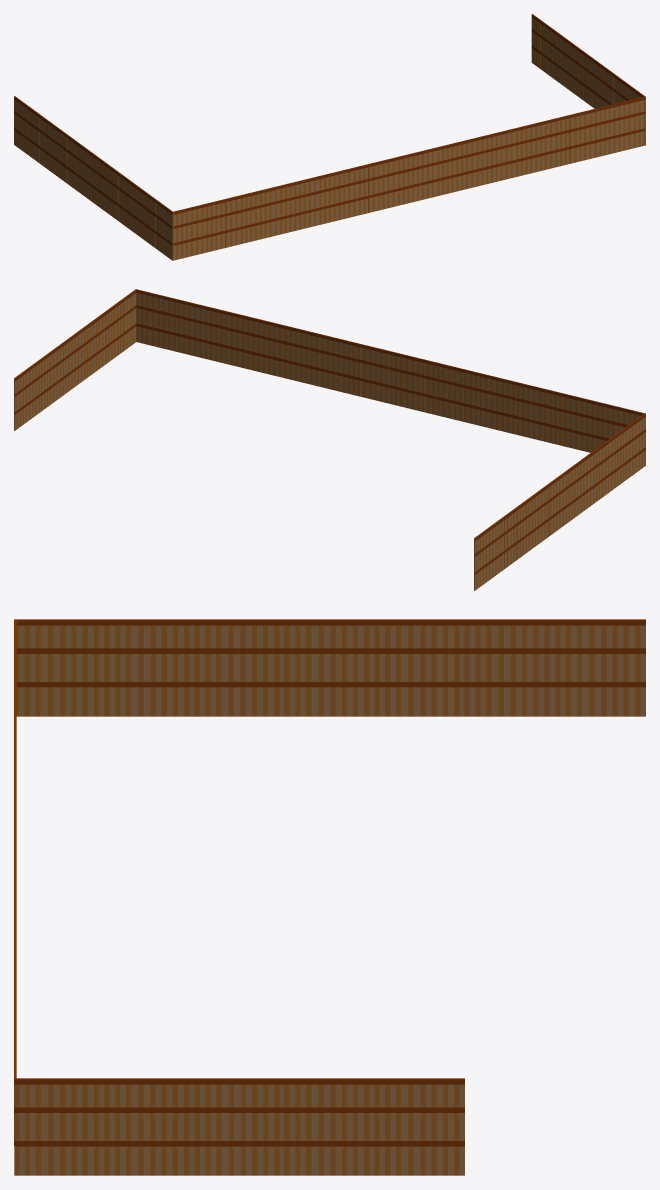
File: Fence.fbx
The picture shows the model from 3 angles, top to bottom: view 1: azimuth 30°, elevation 25°; view 2: azimuth 150°, elevation 25°; view 3: azimuth 270°, elevation 25°; orthographic projection. The views are drawn at different scales.
Visible parts, largest first — view 1: Fence__15_, Fence__16_, Fence__10_, Fence__9_, Fence__13_, Fence__12_, Fence__7_, Fence__6_, Fence__8_, Fence__11_, Fence__14_, Fence__5_ (+11 smaller); view 2: Fence__12_, Fence__9_, Fence__14_, Fence__7_, Fence__16_, Fence__6_, Fence__13_, Fence__10_, Fence__11_, Fence__15_, Fence__8_, Fence__2_ (+11 smaller); view 3: Fence__22_, Fence__4_, Fence__1_, Fence__2_, Fence__3_, Fence__17_, Fence__20_, Fence__19_, Fence, Fence__18_, Fence__23_, Fence__21_.
Boxes of the visible parts, x1,y1,x2,y2 form: Fence__15_: (606, 100, 643, 154); Fence__16_: (567, 110, 604, 164); Fence__10_: (370, 158, 407, 212); Fence__9_: (331, 167, 367, 221); Fence__13_: (488, 129, 525, 183); Fence__12_: (449, 138, 485, 193); Fence__7_: (252, 187, 289, 241); Fence__6_: (213, 196, 249, 250); Fence__8_: (291, 177, 328, 231); Fence__11_: (409, 148, 446, 202); Fence__14_: (527, 119, 564, 173); Fence__5_: (173, 206, 210, 260); Fence__12_: (307, 334, 347, 393); Fence__9_: (434, 365, 474, 424); Fence__14_: (222, 314, 262, 372); Fence__7_: (519, 386, 559, 444); Fence__16_: (180, 303, 220, 362); Fence__6_: (561, 396, 601, 452); Fence__13_: (265, 324, 305, 382); Fence__10_: (392, 355, 432, 413); Fence__11_: (350, 345, 389, 403); Fence__15_: (138, 293, 177, 351); Fence__8_: (477, 376, 516, 434); Fence__2_: (572, 453, 595, 518); Fence__22_: (469, 625, 555, 716); Fence__4_: (19, 625, 104, 716); Fence__1_: (289, 625, 374, 716); Fence__2_: (199, 625, 284, 716); Fence__3_: (109, 625, 194, 716); Fence__17_: (19, 1084, 104, 1175); Fence__20_: (289, 1084, 374, 1175); Fence__19_: (200, 1084, 284, 1175); Fence: (379, 625, 464, 716); Fence__18_: (109, 1084, 194, 1175); Fence__23_: (560, 625, 645, 716); Fence__21_: (379, 1084, 464, 1175).
Size of the model in its own units: 5900 by 578 by 3425.
